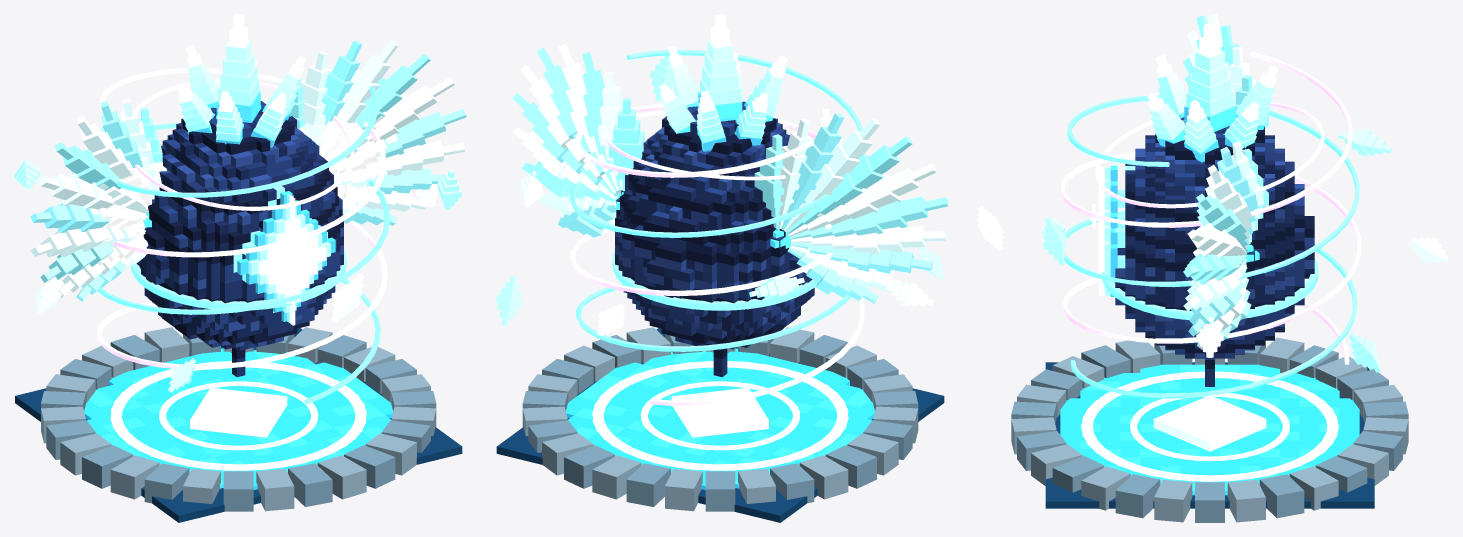
The model's file is egg_ice.glb.
3 renders of one model, left to right at view 1: azimuth 30°, elevation 25°; view 2: azimuth 150°, elevation 25°; view 3: azimuth 270°, elevation 25°, orthographic.
Visible parts, largest first — view 1: root_geo, shell_geo, wing_L_geo, wing_R_geo, spiral_geo, crown_geo, emblem_geo, ripple2_geo, ripple1_geo, halo_ring_geo, egg_geo, shard2_geo (+3 smaller); view 2: root_geo, shell_geo, wing_R_geo, wing_L_geo, spiral_geo, crown_geo, ripple2_geo, ripple1_geo, egg_geo, halo_ring_geo, shard7_geo, shard5_geo (+4 smaller); view 3: root_geo, shell_geo, spiral_geo, wing_L_geo, crown_geo, ripple2_geo, emblem_geo, wing_R_geo, ripple1_geo, egg_geo, halo_ring_geo, shard5_geo (+5 smaller).
Part boxes in pixels (<box>): root_geo: <box>15,327,462,522</box>; shell_geo: <box>136,101,343,376</box>; wing_L_geo: <box>289,40,466,225</box>; wing_R_geo: <box>30,98,166,301</box>; spiral_geo: <box>97,68,390,404</box>; crown_geo: <box>177,14,306,147</box>; emblem_geo: <box>237,191,335,325</box>; ripple2_geo: <box>110,361,366,470</box>; ripple1_geo: <box>159,381,318,450</box>; halo_ring_geo: <box>134,79,353,210</box>; egg_geo: <box>131,250,346,310</box>; shard2_geo: <box>331,274,364,322</box>; root_geo: <box>496,327,944,522</box>; shell_geo: <box>615,101,814,376</box>; wing_R_geo: <box>754,113,948,303</box>; wing_L_geo: <box>512,44,644,237</box>; spiral_geo: <box>569,49,864,405</box>; crown_geo: <box>659,14,787,151</box>; ripple2_geo: <box>592,361,848,470</box>; ripple1_geo: <box>640,381,799,450</box>; egg_geo: <box>612,250,817,310</box>; halo_ring_geo: <box>605,110,817,180</box>; shard7_geo: <box>495,276,523,325</box>; shard5_geo: <box>749,275,804,299</box>; root_geo: <box>1011,337,1408,522</box>; shell_geo: <box>1115,117,1314,386</box>; spiral_geo: <box>1060,51,1361,398</box>; wing_L_geo: <box>1183,141,1268,349</box>; crown_geo: <box>1147,22,1278,162</box>; ripple2_geo: <box>1081,371,1338,481</box>; emblem_geo: <box>1090,165,1117,296</box>; wing_R_geo: <box>1183,14,1268,128</box>; ripple1_geo: <box>1130,393,1289,461</box>; egg_geo: <box>1102,257,1318,319</box>; halo_ring_geo: <box>1095,102,1324,208</box>; shard5_geo: <box>1337,128,1392,156</box>.
Size of the model in its own units: 10.09 by 9.16 by 9.45.
